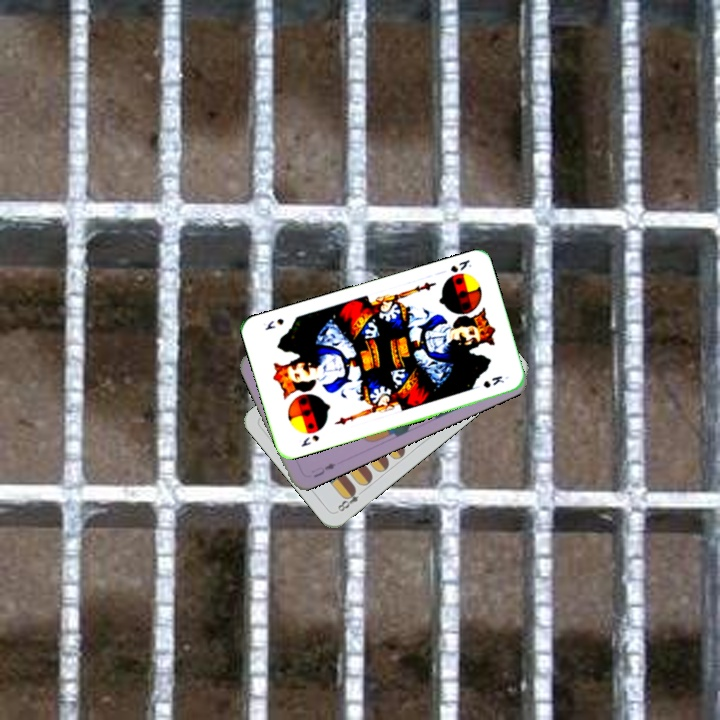E8: (332, 484, 362, 515)
EU: (307, 459, 338, 480)
SK: (446, 256, 474, 275), (297, 431, 322, 449)
